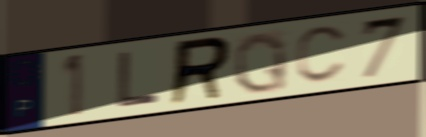1: (60, 50, 86, 120)
7: (356, 15, 411, 81)
C: (294, 23, 351, 87)
L: (115, 49, 161, 111)
Q: (232, 29, 290, 96)
R: (166, 34, 234, 109)
